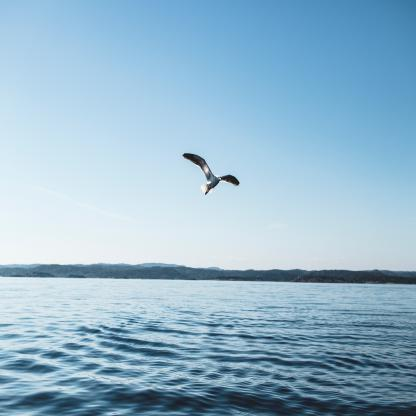bird: (182, 152, 240, 196)
